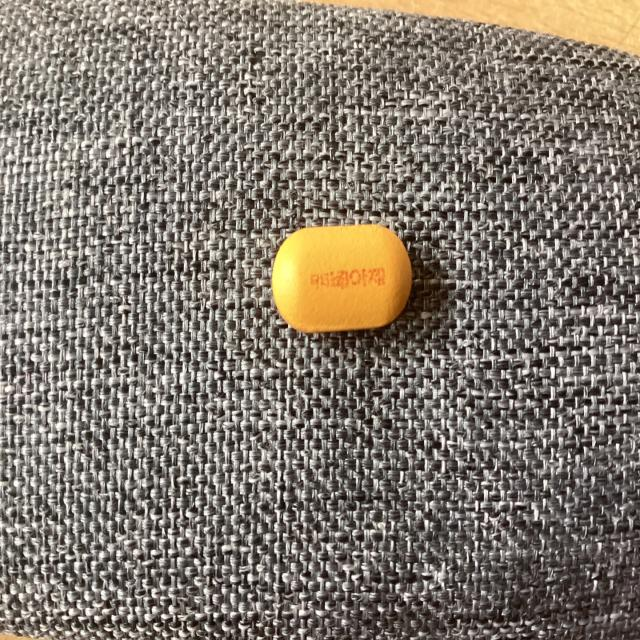-: (266, 207, 424, 342)
